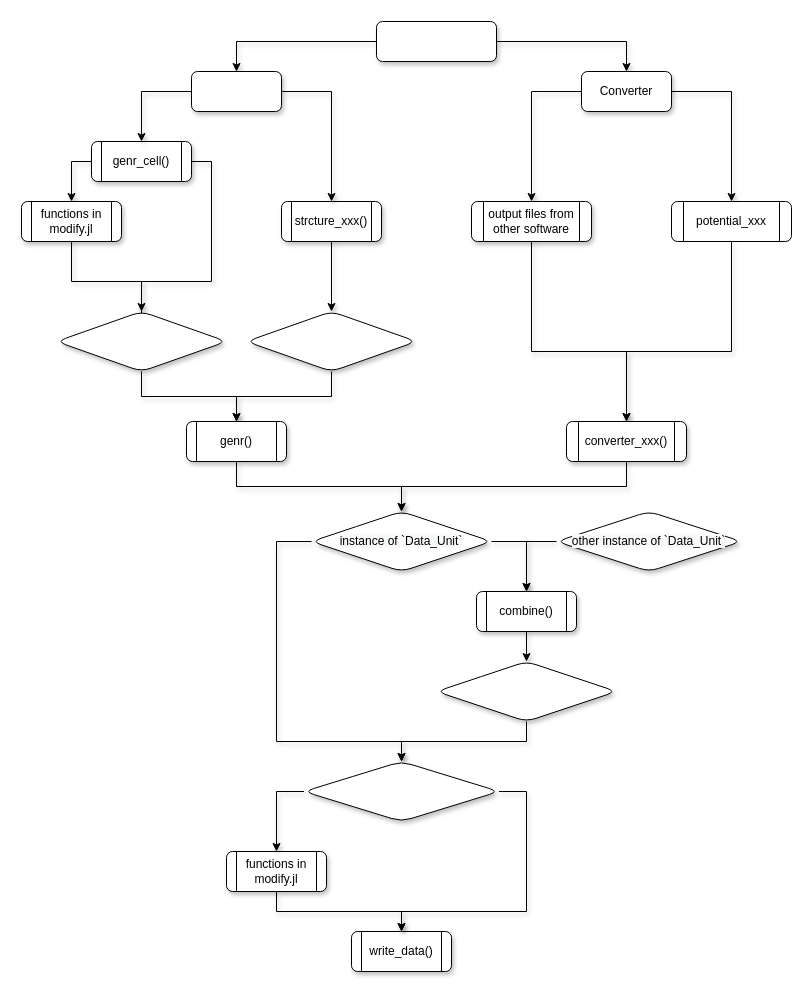
The diagram is 809 pixels wide and 996 high, and some of its shapes have lost their labels. Here are the shapes that lost their labels. From the top down, the centre of each, then its label:
the point at 437,42: lmp_str
the point at 237,92: Generator
the point at 142,342: instance of `Data_Cell`
the point at 332,342: instance of subclass of `Str`
the point at 527,692: instance of `Data_Sum`
the point at 402,792: instance of subclass of `Data`
